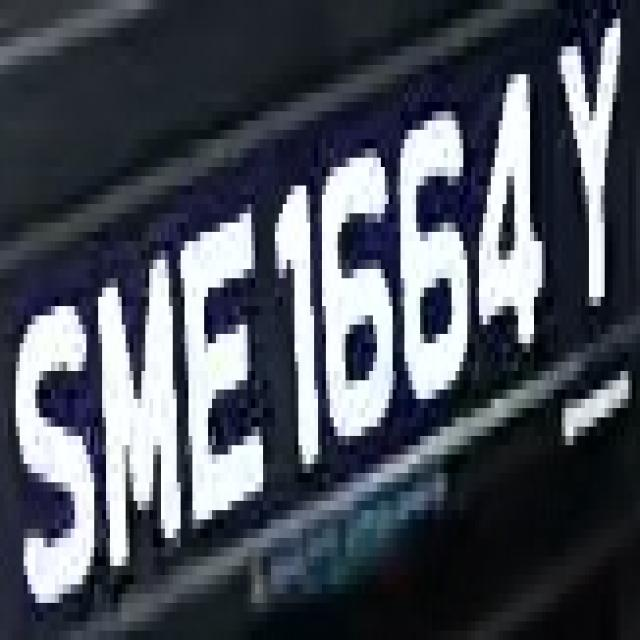1: (279, 158, 330, 510)
4: (463, 65, 554, 399)
6: (306, 130, 393, 464), (389, 102, 471, 455)
E: (169, 186, 263, 547)
M: (82, 232, 188, 603)
S: (4, 260, 102, 612)
Y: (542, 9, 640, 325)
